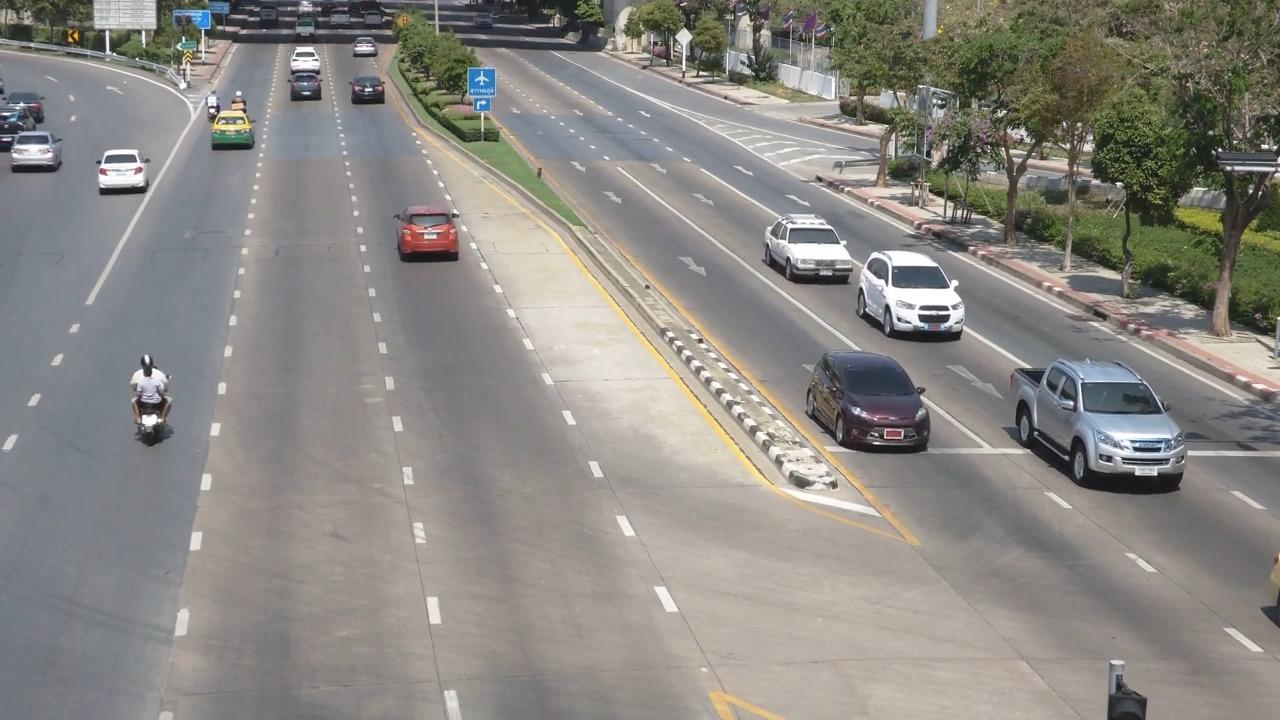CAR: (993, 334, 1195, 496), (792, 334, 964, 480), (848, 245, 961, 345), (757, 202, 859, 290), (380, 198, 473, 277), (83, 133, 172, 210), (202, 107, 269, 162), (341, 66, 404, 121), (8, 126, 71, 177), (282, 67, 332, 112), (2, 95, 51, 139), (341, 27, 386, 65), (283, 46, 327, 79), (248, 3, 286, 37), (291, 16, 322, 45)
MOTOR: (106, 344, 189, 450), (194, 84, 228, 131), (227, 84, 260, 126)
